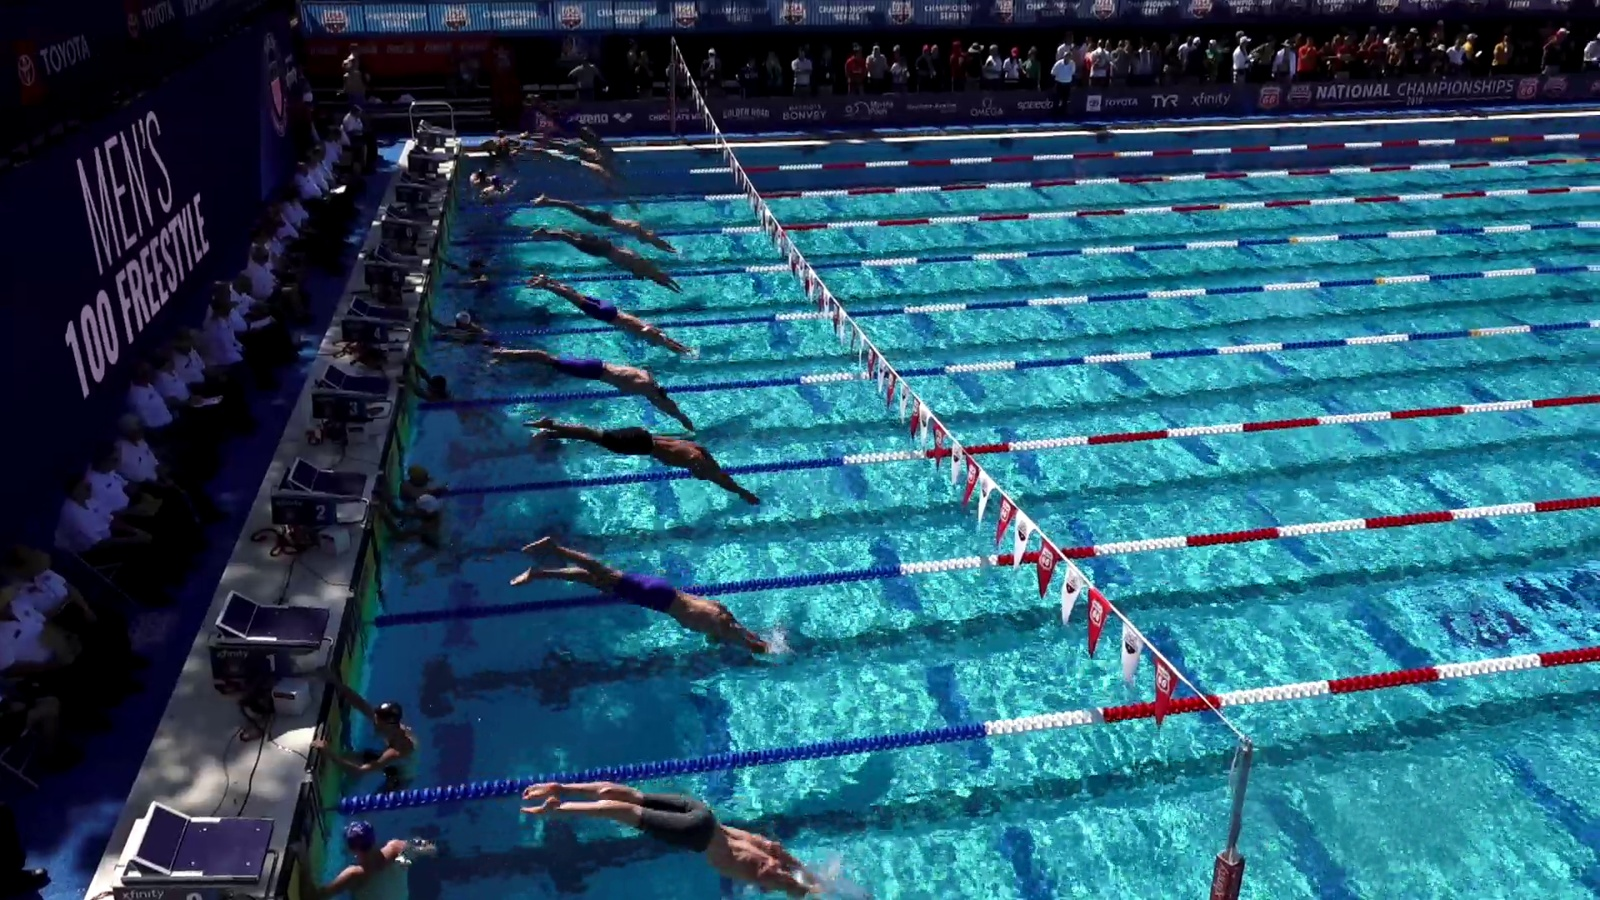swimmerw: (514, 781, 810, 891), (516, 537, 765, 657), (527, 420, 763, 504), (489, 348, 691, 425), (522, 276, 697, 353), (305, 818, 444, 897), (330, 685, 425, 791), (529, 225, 679, 288), (538, 200, 685, 252), (533, 98, 614, 158), (402, 490, 451, 580), (525, 149, 621, 184), (410, 354, 462, 414), (426, 307, 495, 345), (401, 459, 438, 519), (436, 255, 495, 282), (482, 129, 519, 164), (479, 179, 516, 205), (471, 169, 492, 191)
